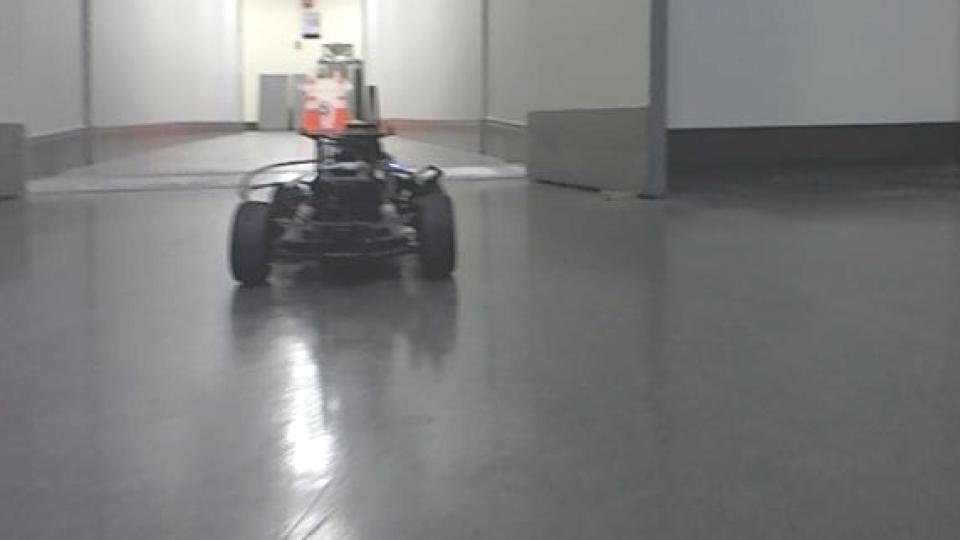car: (223, 118, 460, 290)
